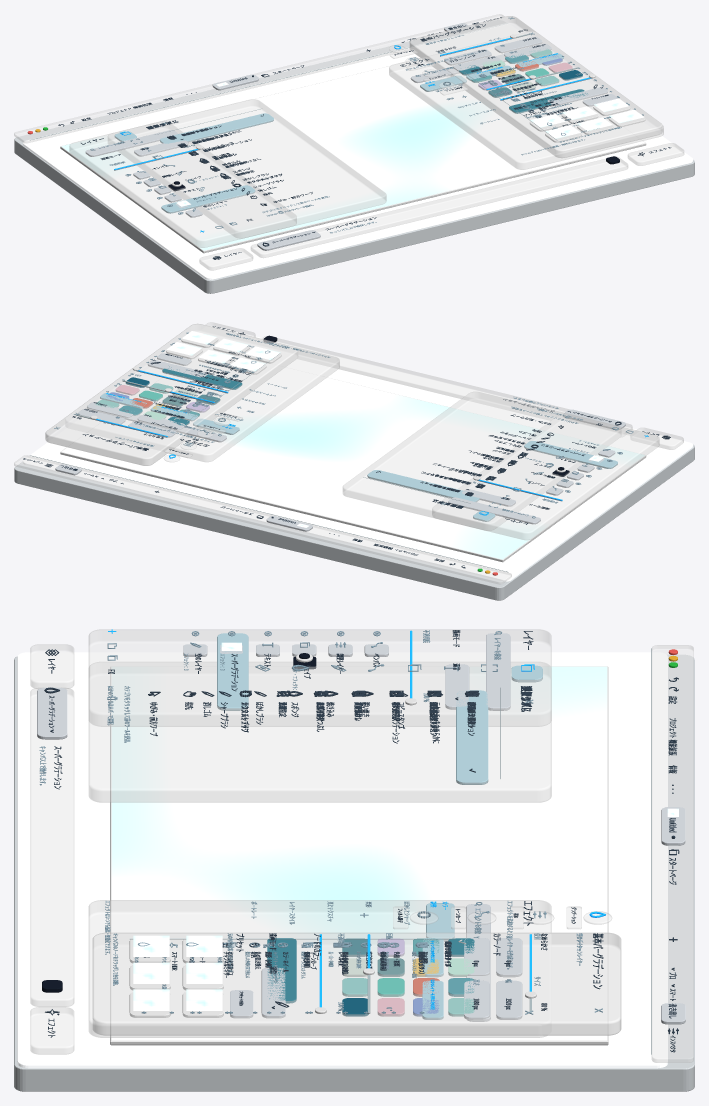
The model's file is image-pro-dark.glb.
3 views of the same model, one above another, from view 1: azimuth 30°, elevation 25°; view 2: azimuth 150°, elevation 25°; view 3: azimuth 270°, elevation 25° (orthographic). The views are drawn at different scales.
Visible parts, largest first — view 1: SuperGradientCanvas, Workspace, Tools.glassBody, WindowEdge, Layers.glassBody, BasicInspector.glassBody, Effects.glassBody, Inspector.glassBody, Titlebar.glass, Toolbar, CanvasPaper, Tools.tool.selected (+7 smaller); view 2: SuperGradientCanvas, Workspace, Tools.glassBody, WindowEdge, Layers.glassBody, BasicInspector.glassBody, Inspector.glassBody, Titlebar.glass, Effects.glassBody, Toolbar, CanvasPaper, Tools.tool.selected (+7 smaller); view 3: SuperGradientCanvas, Workspace, Tools.glassBody, Layers.glassBody, BasicInspector.glassBody, WindowEdge, Inspector.glassBody, Effects.glassBody, Titlebar.glass, Toolbar, CanvasPaper, Tools.tool.selected (+22 smaller).
Part boxes in pixels (x1,y1,x2,y2): SuperGradientCanvas: [61, 39, 644, 250]; Workspace: [23, 24, 693, 279]; Tools.glassBody: [108, 99, 386, 238]; WindowEdge: [14, 20, 694, 293]; Layers.glassBody: [69, 121, 296, 247]; BasicInspector.glassBody: [410, 16, 661, 157]; Effects.glassBody: [389, 32, 663, 169]; Inspector.glassBody: [410, 16, 661, 151]; Titlebar.glass: [14, 14, 504, 143]; Toolbar: [251, 157, 627, 257]; CanvasPaper: [60, 65, 646, 253]; Tools.tool.selected: [160, 113, 273, 143]; SuperGradientCanvas: [61, 348, 644, 559]; Workspace: [23, 326, 693, 581]; Tools.glassBody: [343, 392, 621, 530]; WindowEdge: [14, 444, 694, 600]; Layers.glassBody: [432, 413, 659, 539]; BasicInspector.glassBody: [45, 324, 297, 465]; Inspector.glassBody: [45, 324, 297, 465]; Titlebar.glass: [14, 455, 511, 584]; Effects.glassBody: [169, 347, 339, 461]; Toolbar: [262, 336, 632, 436]; CanvasPaper: [60, 375, 646, 562]; Tools.tool.selected: [367, 470, 479, 501]; SuperGradientCanvas: [111, 666, 607, 1040]; Workspace: [17, 652, 667, 1068]; Tools.glassBody: [89, 662, 551, 802]; Layers.glassBody: [89, 629, 551, 726]; BasicInspector.glassBody: [93, 933, 620, 1035]; WindowEdge: [14, 654, 694, 1091]; Inspector.glassBody: [93, 933, 620, 1035]; Effects.glassBody: [89, 900, 551, 1037]; Titlebar.glass: [652, 645, 693, 1062]; Toolbar: [30, 688, 73, 1006]; CanvasPaper: [110, 666, 608, 1045]; Tools.tool.selected: [456, 690, 488, 784].
Size of the model in its own units: 10 by 0.771 by 6.94.
